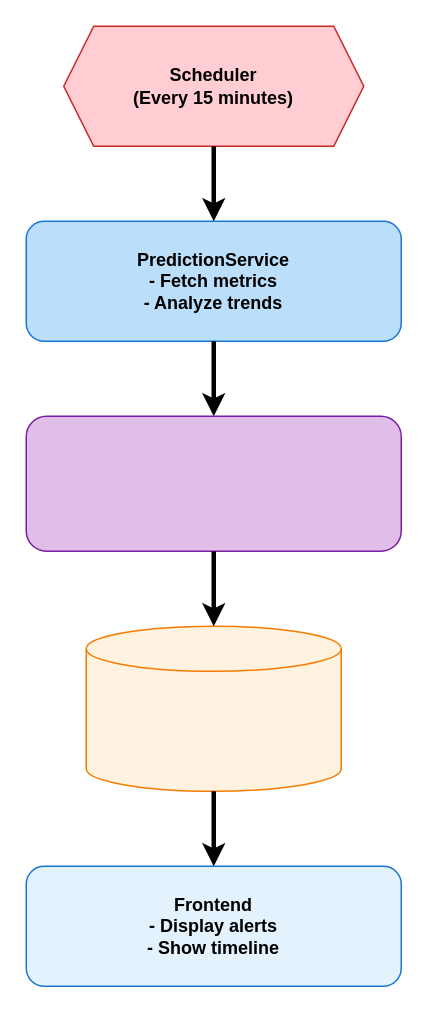
This 428x1013 diagram has some shape labels left out. The shapes that lost their labels are listed below. From the top down, each one's box as (x1, y1, x2, y2) in pixels, then its label:
(25, 415, 401, 551): PredictionAgent (LangGraph) - AI analysis - Generate insights
(85, 625, 341, 791): OpenSearch - Store in api-predictions
